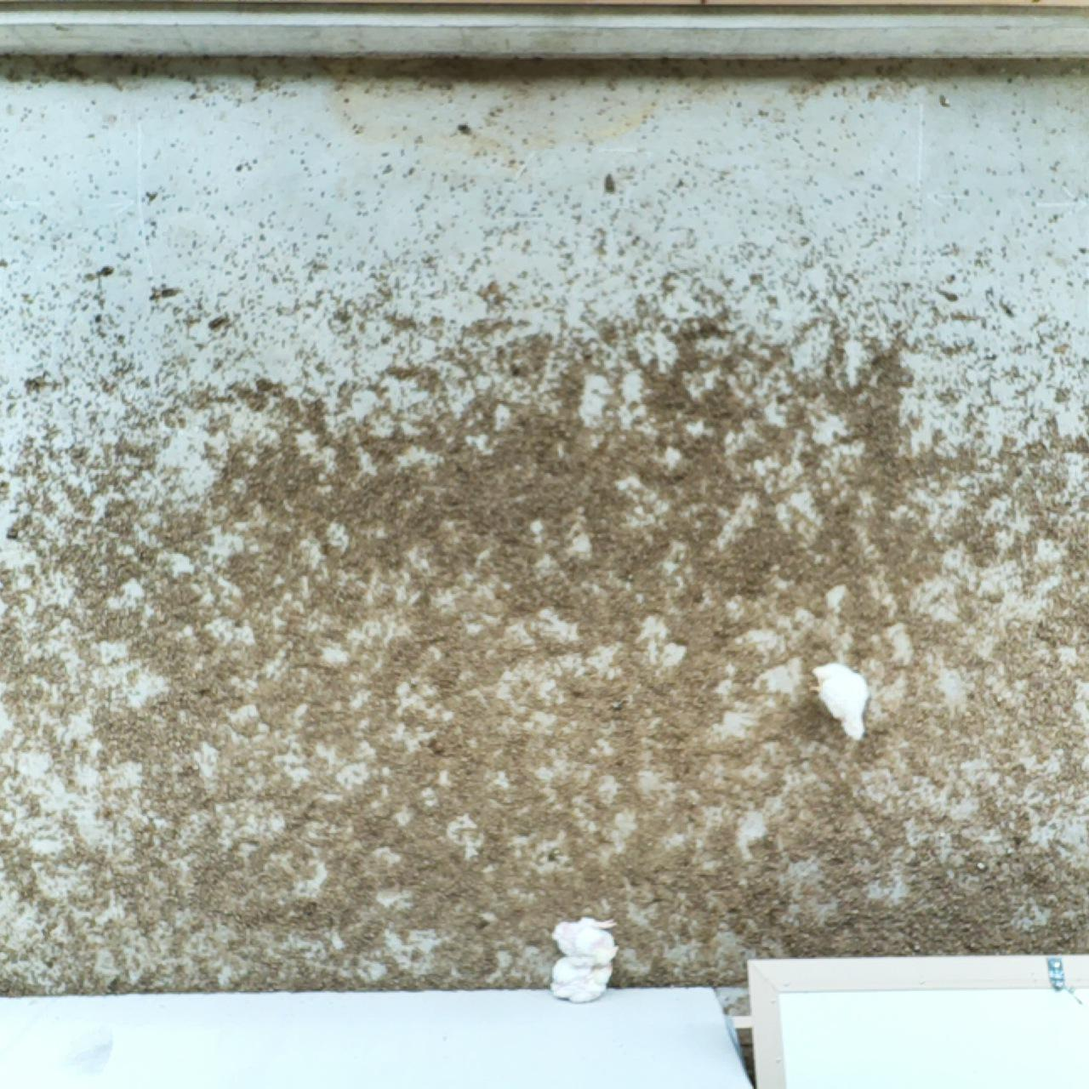chicken: (805, 658, 872, 744), (548, 912, 623, 969), (549, 951, 617, 1008)
